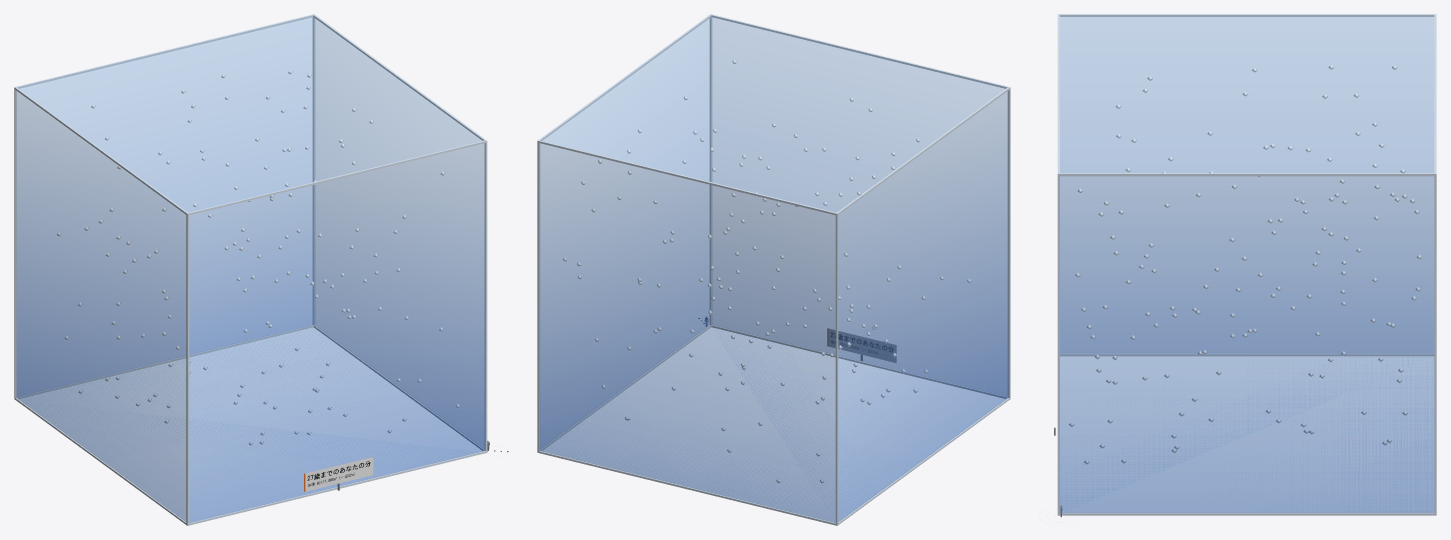
Rendered from cube_life_27.glb.
3 renders of one model, left to right at view 1: azimuth 30°, elevation 25°; view 2: azimuth 150°, elevation 25°; view 3: azimuth 270°, elevation 25°, orthographic. The views are drawn at different scales.
Parts seen in each view (by area): view 1: co2, edge, dots, label; view 2: co2, edge, dots, label; view 3: co2, edge, dots.
Boxes of the visible parts, x1,y1,x2,y2 form: co2: [16, 15, 484, 522]; edge: [14, 14, 487, 525]; dots: [57, 70, 459, 463]; label: [304, 457, 373, 491]; co2: [540, 15, 1008, 522]; edge: [537, 14, 1010, 525]; dots: [563, 60, 971, 483]; label: [827, 328, 896, 362]; co2: [1059, 15, 1434, 512]; edge: [1057, 14, 1436, 515]; dots: [1069, 65, 1421, 464].
Size of the model in its own units: 55.28 by 51.56 by 54.38.
8 materials, 3 textured.
